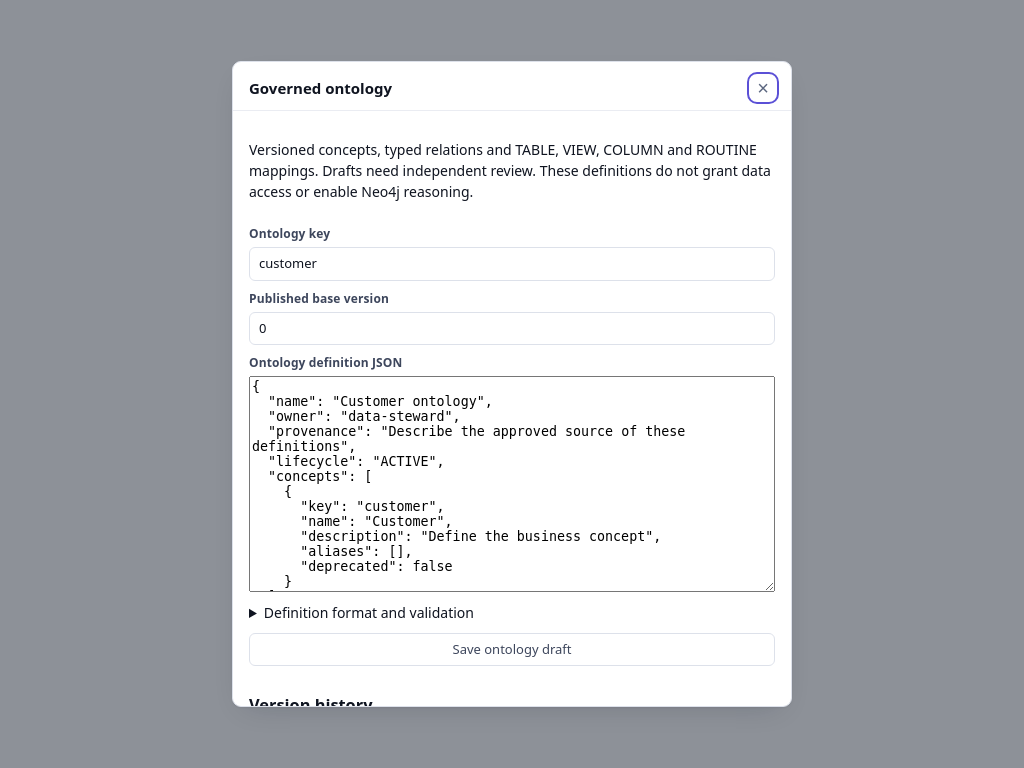
Test: refuses invalid JSON locally and preserves the editor
Step 1. Replace the text in the text box labelled "Ontology definition JSON" with "not json" → (512, 484), box x1=249 y1=376 x2=775 y2=592
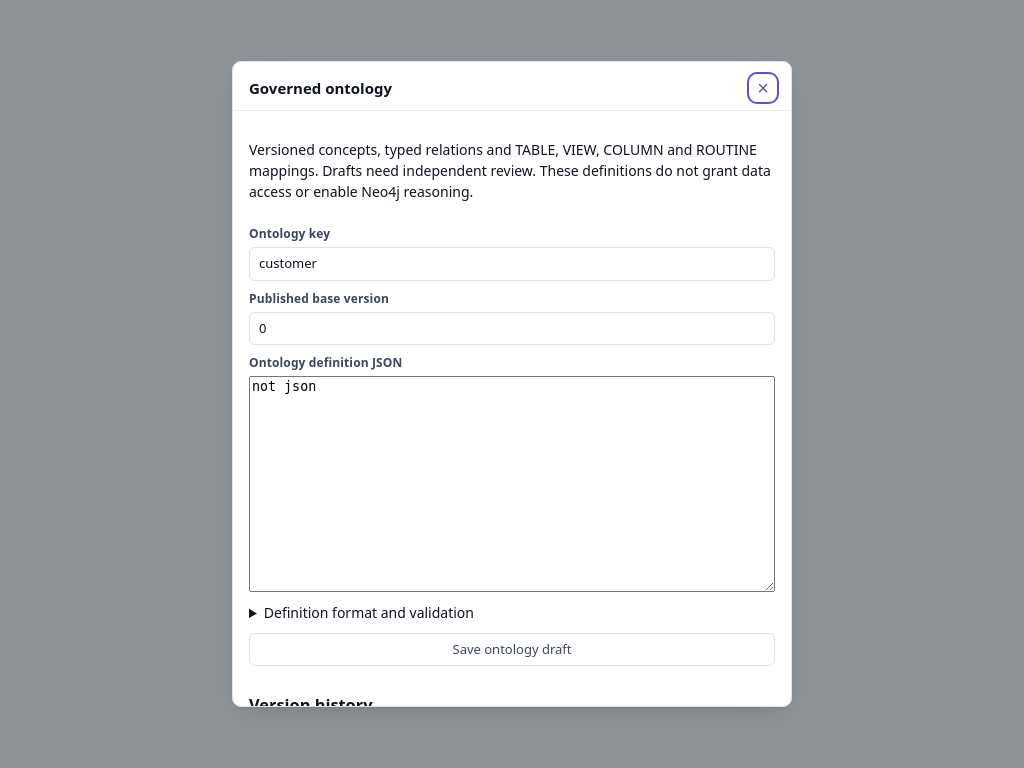
Step 2. Click the button "Save ontology draft" → (512, 650), box x1=249 y1=633 x2=775 y2=666
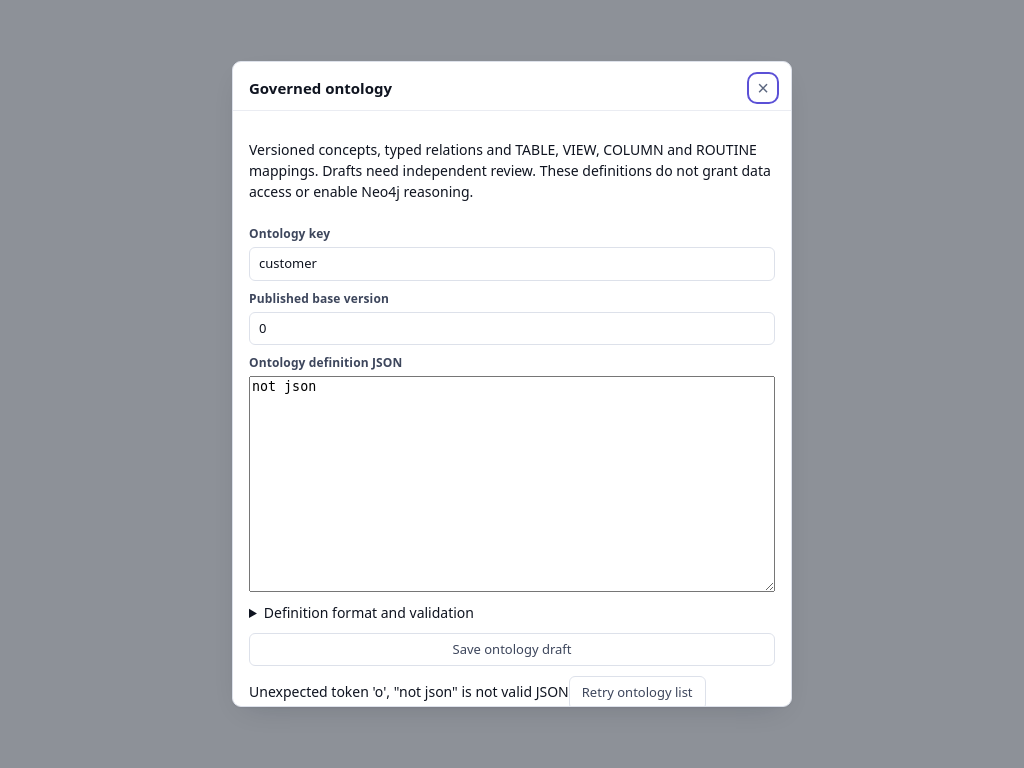
Check: the message "Unexpected token 'o', \"not json\" is not valid JSON Retry ontology list" is shown, box x1=249 y1=676 x2=775 y2=706
